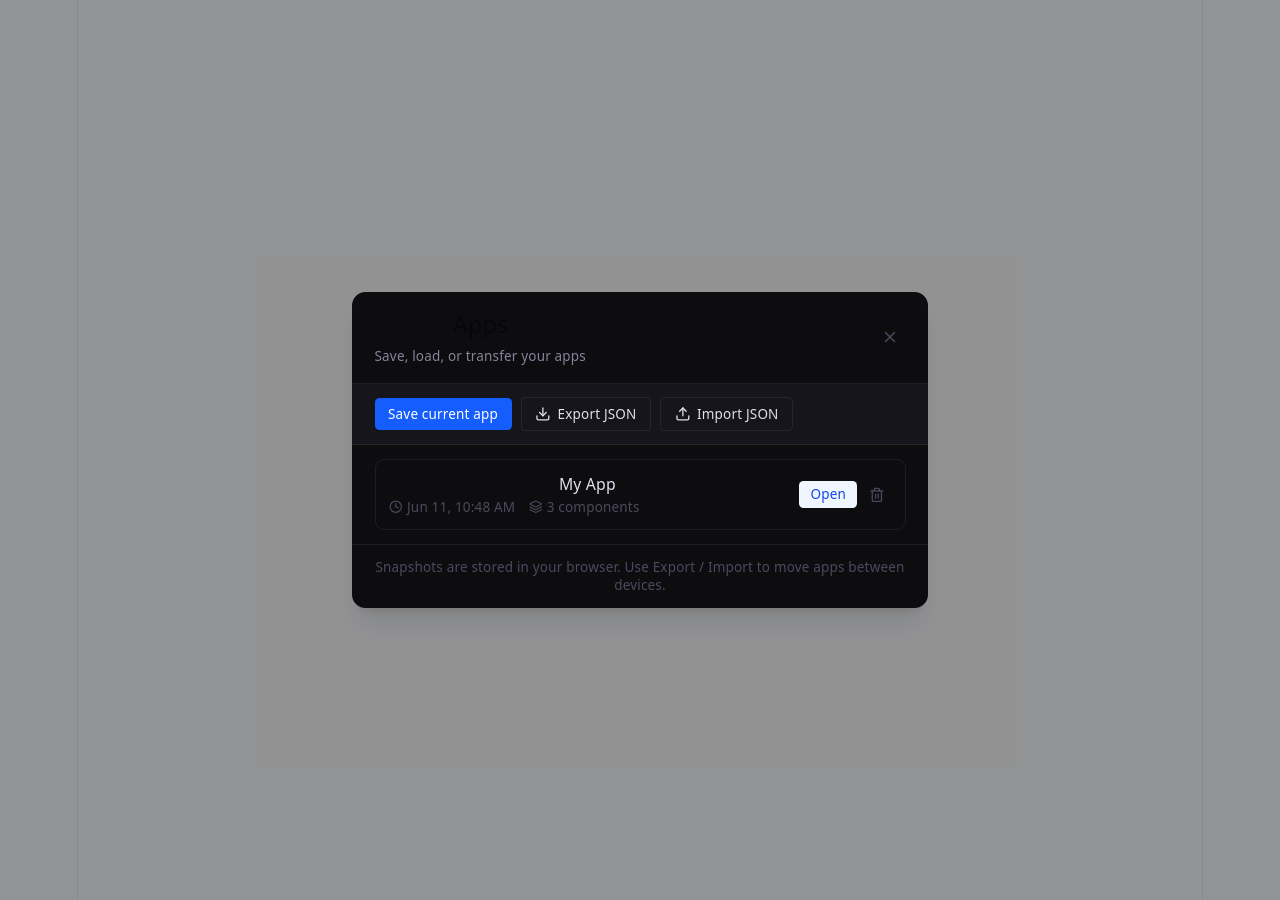
Test: open button › shows an error when loadSave returns null
Click the button "Open".
click(828, 494)  # box [799,481,857,508]
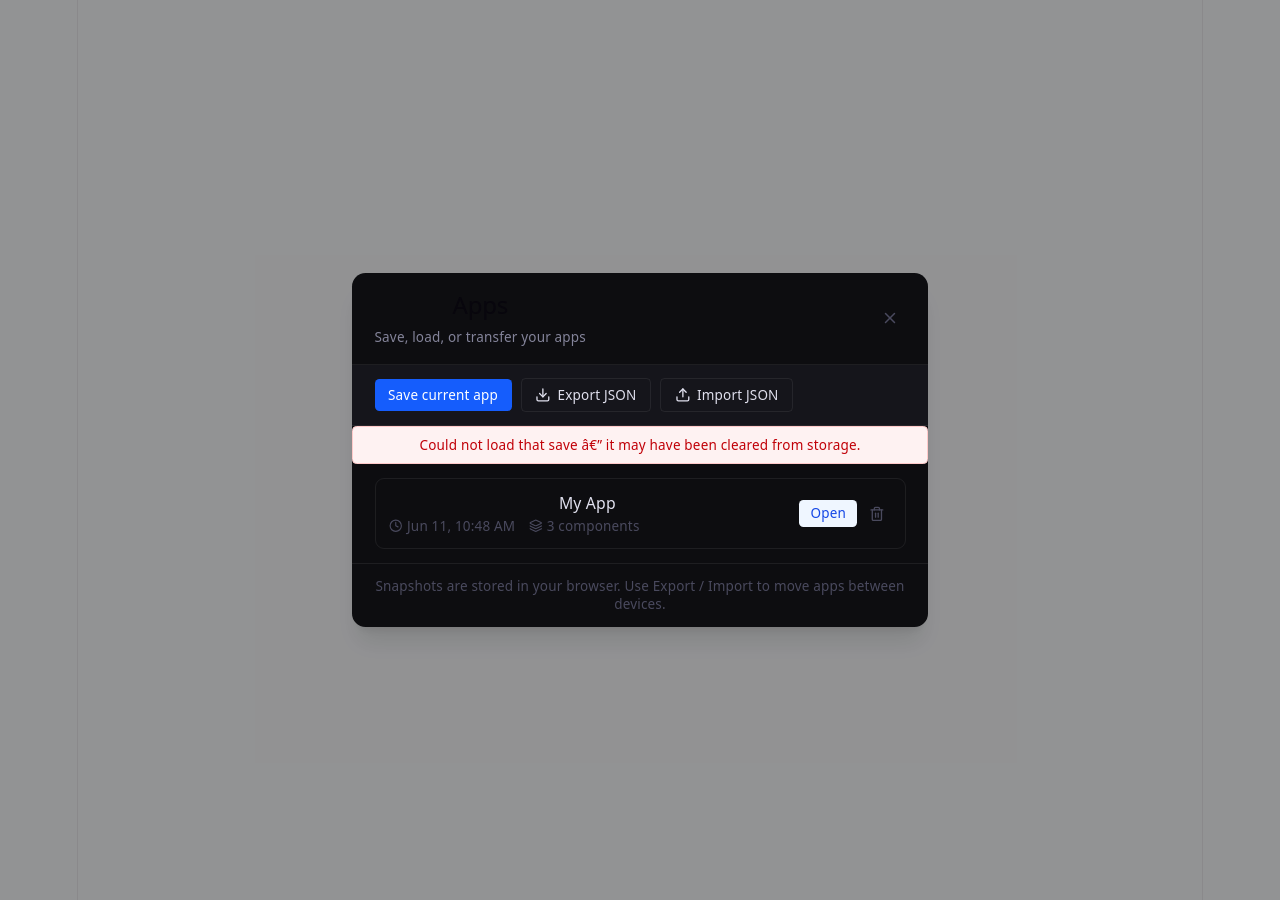
Now the message "Could not load that save â€” it may have been cleared from storage." is shown, box [352,426,928,464]
